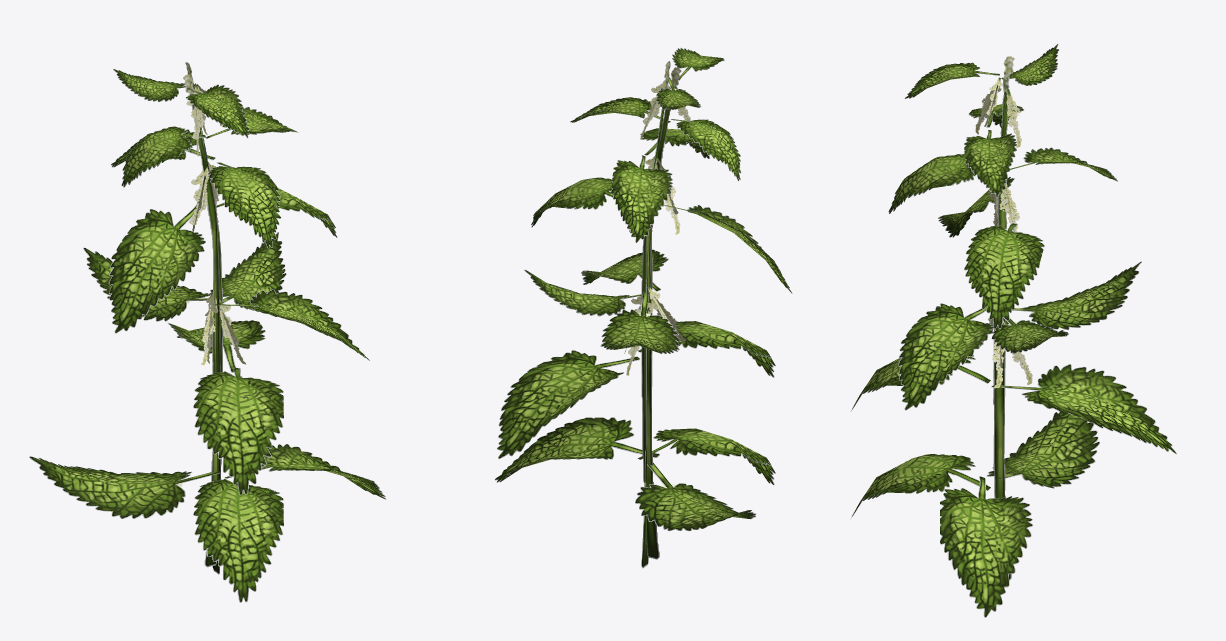
The model's file is WEED PLANT.fbx.
The picture shows the model from 3 angles, left to right: view 1: azimuth 30°, elevation 25°; view 2: azimuth 150°, elevation 25°; view 3: azimuth 270°, elevation 25°; orthographic projection.
Parts seen in each view (by area): view 1: weed_plants:weed_plant1; view 2: weed_plants:weed_plant1; view 3: weed_plants:weed_plant1.
Part boxes in pixels (x1,y1,x2,y2): weed_plants:weed_plant1: (29,62,385,602); weed_plants:weed_plant1: (495,48,792,568); weed_plants:weed_plant1: (851,44,1176,617).
Size of the model in its own units: 25 by 40.52 by 23.29.
